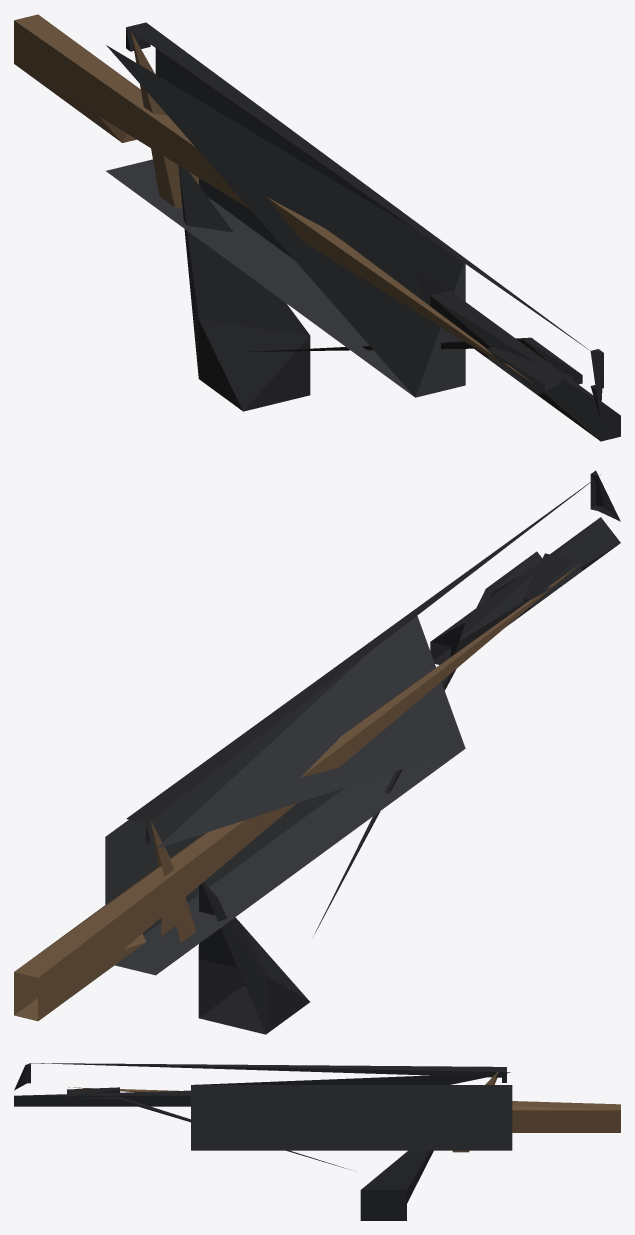
Rendered from rpk.obj.
3 views of the same model, one above another, from view 1: azimuth 30°, elevation 25°; view 2: azimuth 150°, elevation 25°; view 3: azimuth 270°, elevation 25° (orthographic). The views are drawn at different scales.
Bounding box in the file's own units: 0.1 × 0.4075 × 1.51.
